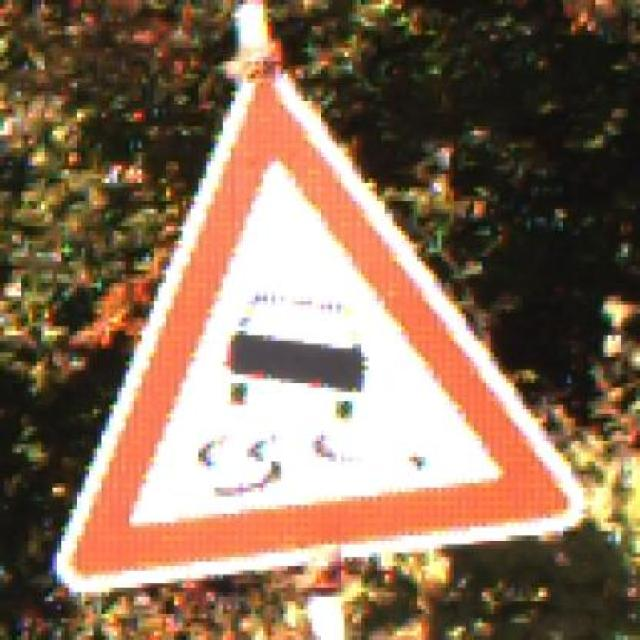Slippery Road Ahead: (44, 70, 604, 592)
